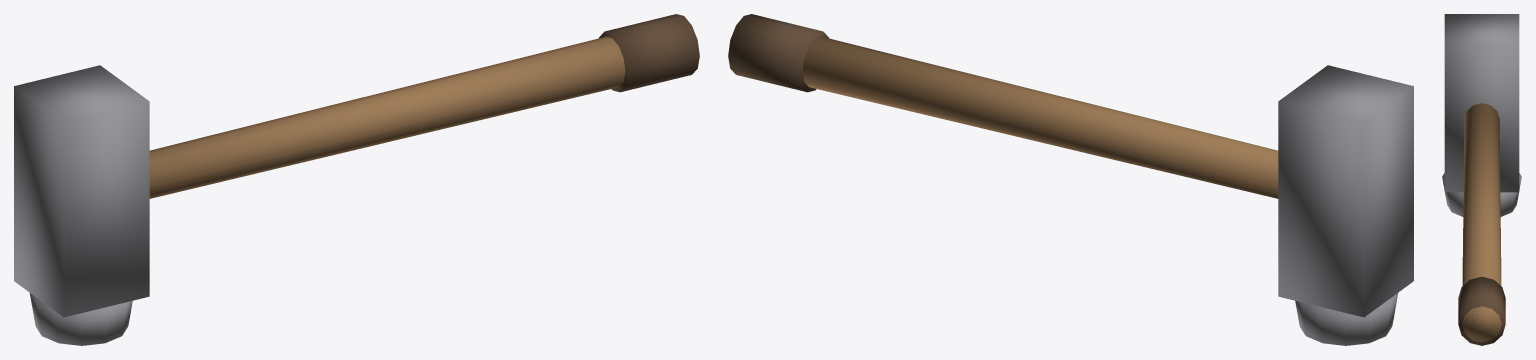
File: hammer.glb
3 views of the same model, side by side, from view 1: azimuth 30°, elevation 25°; view 2: azimuth 150°, elevation 25°; view 3: azimuth 270°, elevation 25° (orthographic). The views are drawn at different scales.
Visible parts, largest first — view 1: Cone; view 2: Cone; view 3: Cone.
Part boxes in pixels (left/top/right/bottom): Cone: left=14, top=14, right=699, bottom=345; Cone: left=728, top=14, right=1413, bottom=345; Cone: left=1442, top=14, right=1521, bottom=345.
Size of the model in its own units: 0.452 by 0.155 by 0.064.
